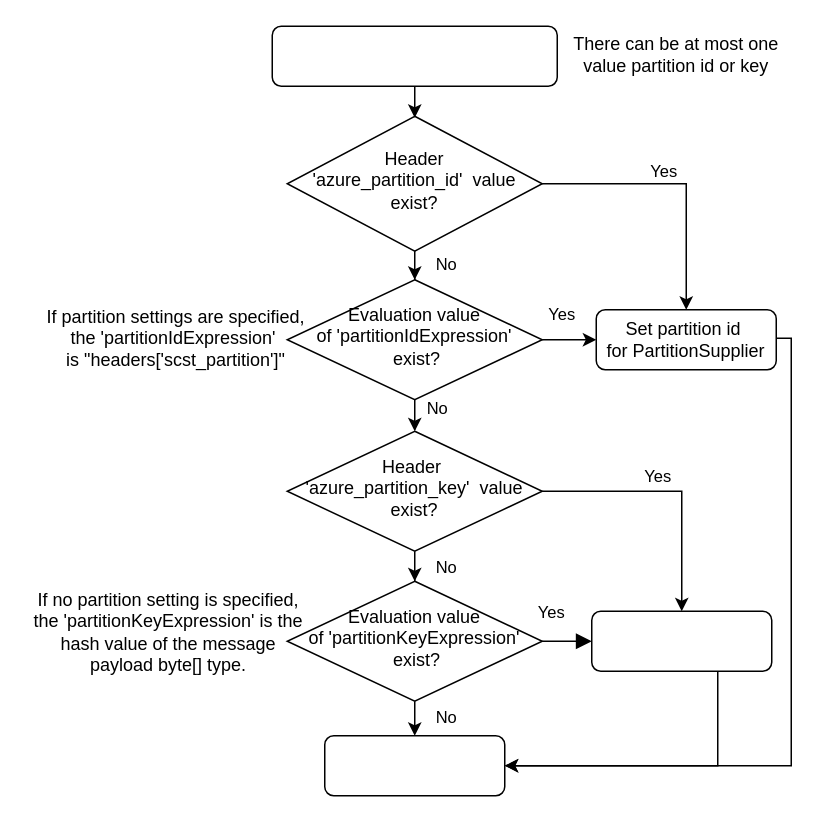
This 830x822 diagram has some shape labels left out. The shapes that lost their labels are listed below. From the top down, each one's centre as x and y in pixels, then its label:
point (414, 55): Create PartitionSupplier
point (681, 640): Set partition key for PartitionSupplier
point (414, 765): Return PartitionSupplier
